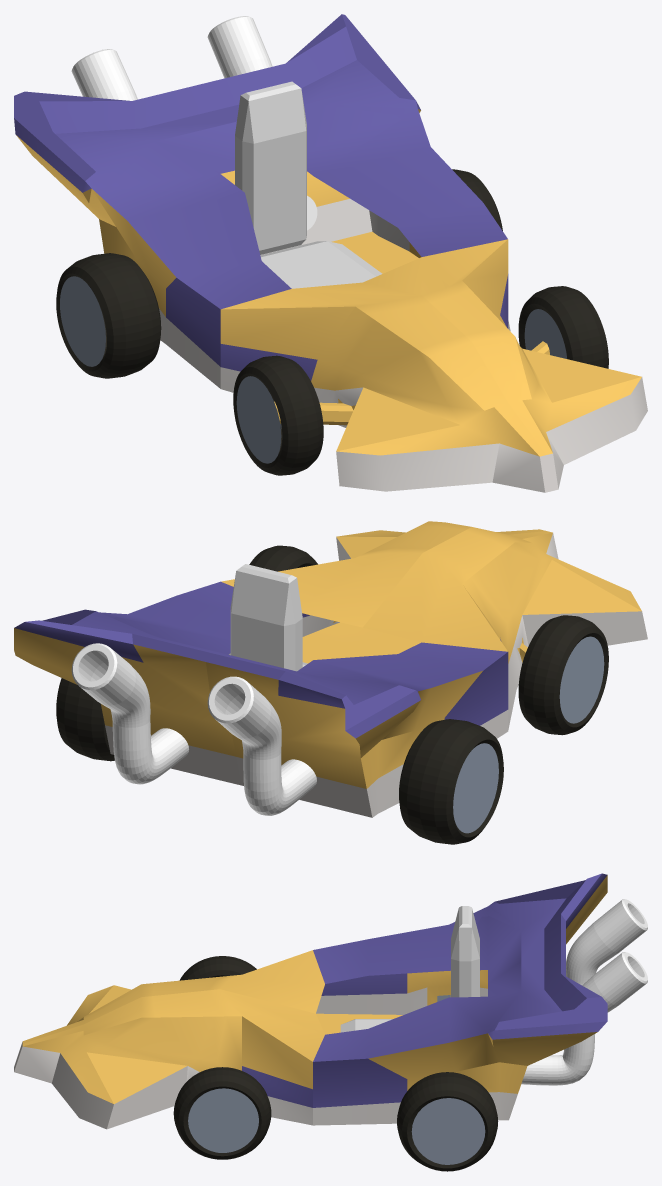
The model's file is kart todo.fbx.
3 views of the same model, one above another, from view 1: azimuth 30°, elevation 25°; view 2: azimuth 150°, elevation 25°; view 3: azimuth 270°, elevation 25° (orthographic). The views are drawn at different scales.
Visible parts, largest first — view 1: Cube, Cube.001, Circle.001, Circle; view 2: Cube, Circle, Circle.001, Cube.001; view 3: Cube, Circle.001, Circle, Cube.001.
Part boxes in pixels (left/top/right/bottom): Cube: left=14, top=14, right=647, bottom=492; Cube.001: left=235, top=81, right=382, bottom=288; Circle.001: left=233, top=286, right=608, bottom=475; Circle: left=56, top=169, right=502, bottom=378; Cube: left=14, top=521, right=647, bottom=817; Circle: left=56, top=678, right=503, bottom=844; Circle.001: left=249, top=545, right=608, bottom=735; Cube.001: left=230, top=564, right=307, bottom=671; Cube: left=14, top=873, right=647, bottom=1129; Circle.001: left=173, top=956, right=271, bottom=1159; Circle: left=397, top=995, right=498, bottom=1171; Cube.001: left=340, top=906, right=479, bottom=1032.
Bounding box in the file's own units: 207 × 117 × 358.
